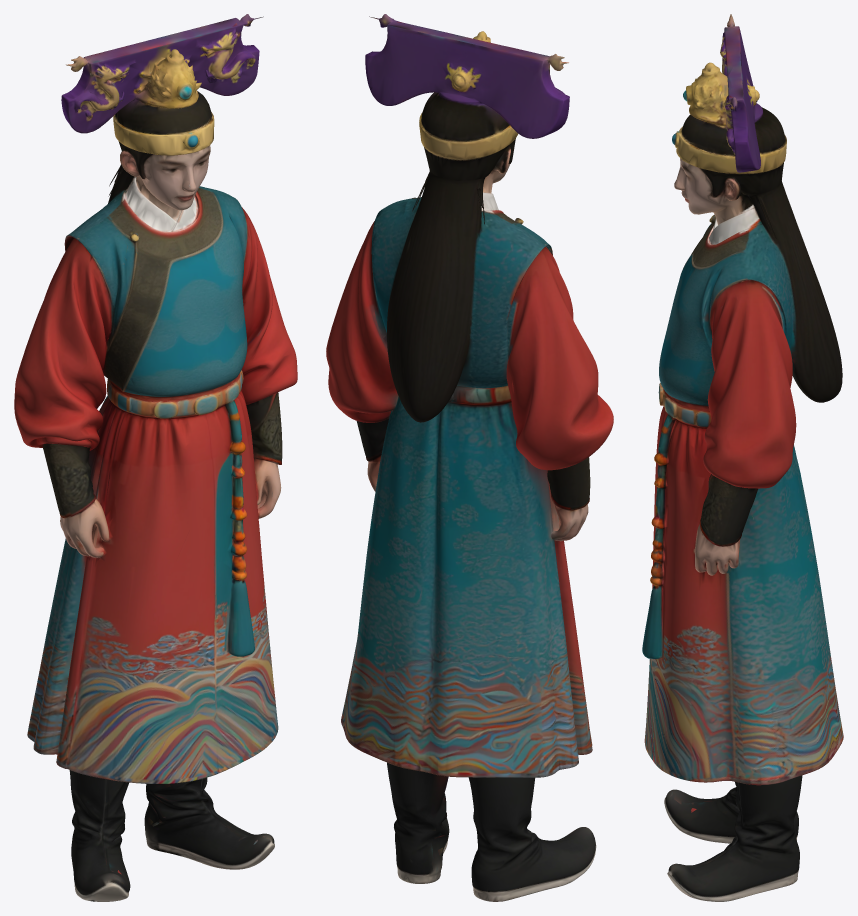
The model's file is jia_baoyu.glb.
The picture shows the model from 3 angles, left to right: view 1: azimuth 30°, elevation 25°; view 2: azimuth 150°, elevation 25°; view 3: azimuth 270°, elevation 25°; orthographic projection. The views are drawn at different scales.
Parts seen in each view (by area): view 1: node_0; view 2: node_0; view 3: node_0.
Part boxes in pixels (x1=…): node_0: x1=14, y1=14, x2=297, y2=901; node_0: x1=326, y1=14, x2=613, y2=901; node_0: x1=642, y1=14, x2=843, y2=901.
Bounding box in the file's own units: 0.3966 × 1.17 × 0.264.
Materials: 1 (1 with a texture image).
